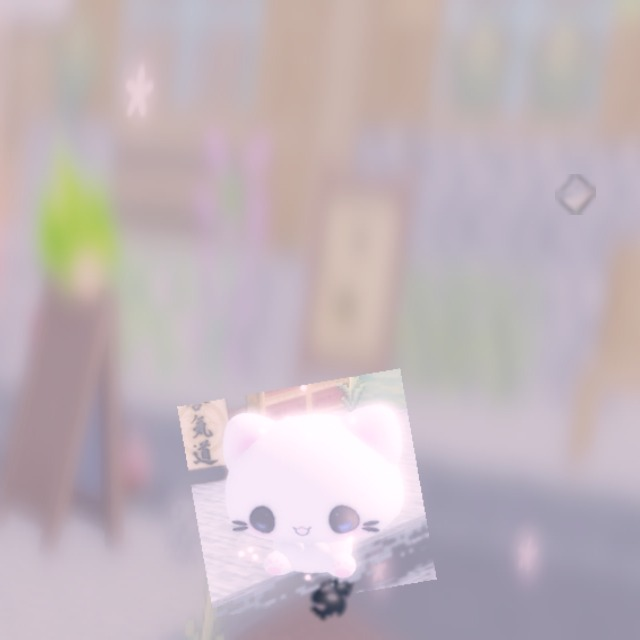urso_branco: (177, 368, 437, 618), (555, 174, 596, 215)
urso_preto: (302, 562, 367, 629)
